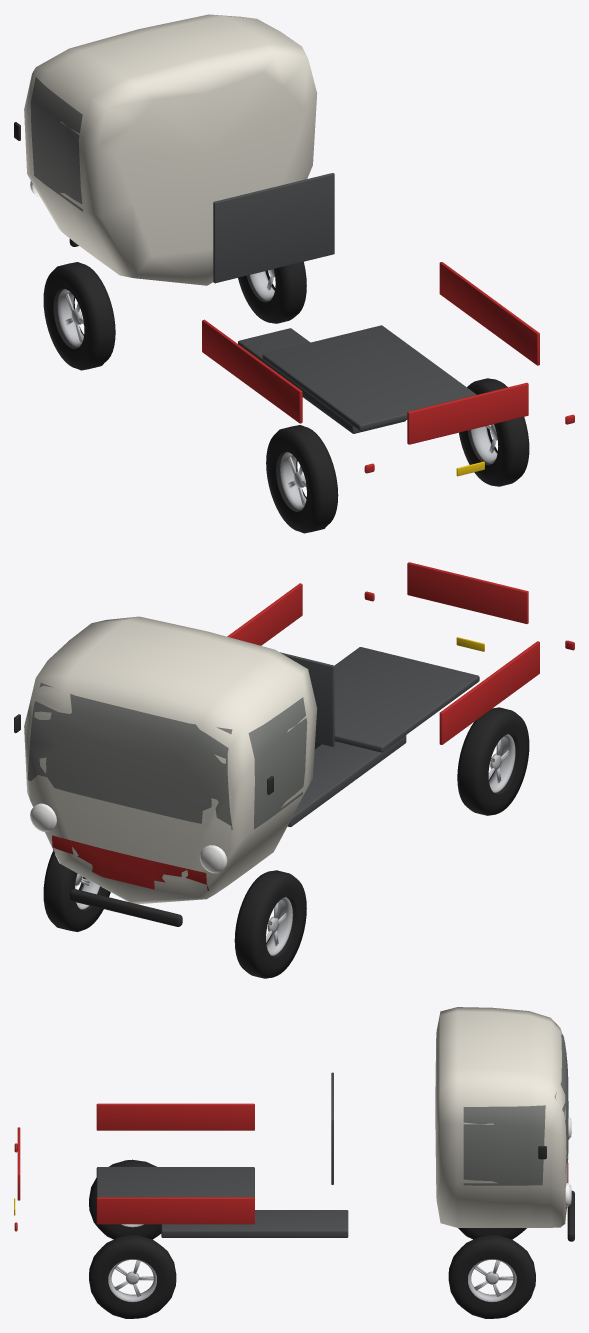
Rendered from minitruck_1.glb.
The picture shows the model from 3 angles, top to bottom: view 1: azimuth 30°, elevation 25°; view 2: azimuth 150°, elevation 25°; view 3: azimuth 270°, elevation 25°; orthographic projection. The views are drawn at different scales.
Parts seen in each view (by area): view 1: body, wheel_0, wheel_2, wheel_3, wheel_1; view 2: body, wheel_0, wheel_2, wheel_1; view 3: body, wheel_1, wheel_3, wheel_2, wheel_0.
Part boxes in pixels (x1,y1,x2,y2): body: (14, 14, 574, 476); wheel_0: (43, 262, 115, 370); wheel_2: (266, 425, 338, 533); wheel_3: (459, 378, 529, 486); wheel_1: (238, 262, 306, 323); body: (14, 562, 574, 926); wheel_0: (234, 870, 306, 978); wheel_2: (457, 707, 529, 815); wheel_1: (43, 851, 110, 931); body: (14, 1007, 574, 1241); wheel_1: (448, 1235, 535, 1318); wheel_3: (89, 1235, 176, 1318); wheel_2: (89, 1159, 161, 1239); wheel_0: (458, 1228, 526, 1239).
Bounding box in the file's own units: 1.66 × 1.85 × 3.9.
